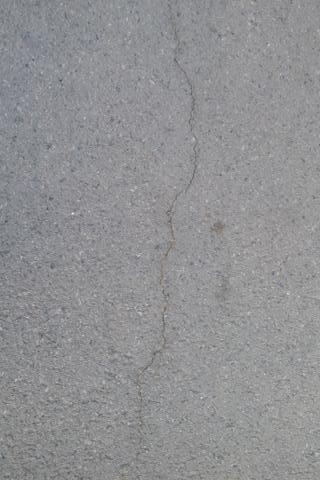A: (139, 2, 202, 375)
